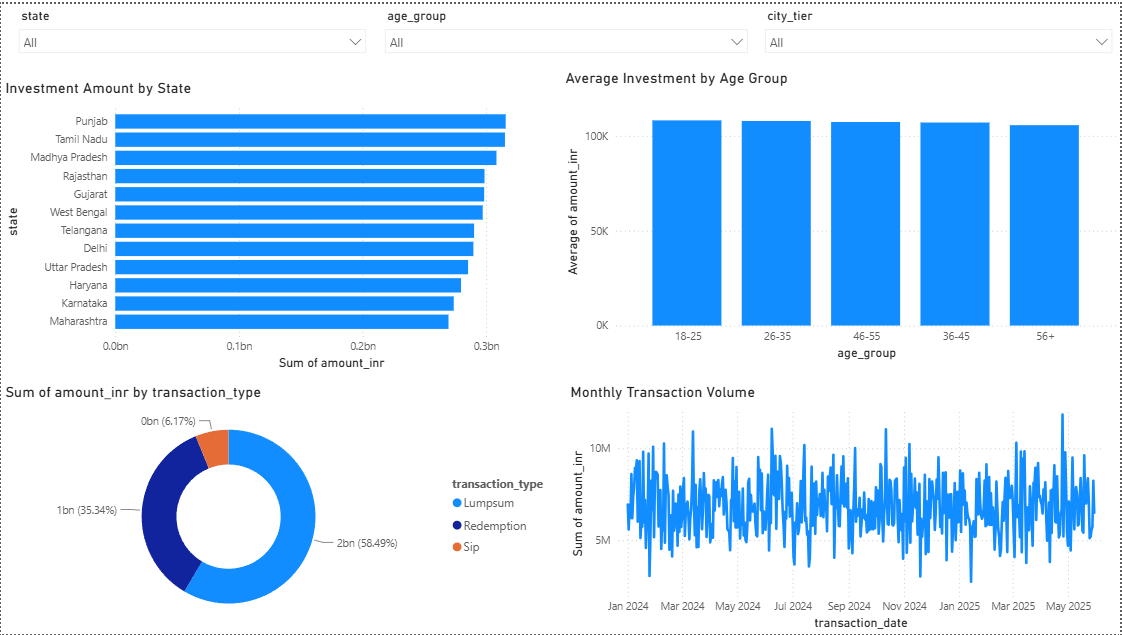

What the dashboard file says about the page in this screenshot:
{"tool":"powerbi","page":{"name":"Investor Analytics","canvas":[1280,720],"ordinal":2},"visuals":[{"type":"slicer","fields":{"Values":["transactions_clean.state"]},"box":[10.5,0,417.4,86],"z":0},{"type":"slicer","fields":{"Values":["transactions_clean.age_group"]},"box":[427.9,0,434.9,86],"z":1000},{"type":"slicer","fields":{"Values":["transactions_clean.city_tier"]},"box":[862.8,0,417.4,86],"z":2000},{"type":"clusteredBarChart","title":"Investment Amount by State","fields":{"Category":["transactions_clean.state"],"Y":["Sum(transactions_clean.amount_inr)"]},"box":[0,86,645.4,337.2],"z":3000},{"type":"donutChart","fields":{"Category":["transactions_clean.transaction_type"],"Y":["Sum(transactions_clean.amount_inr)"]},"box":[0,432.6,639.5,287.2],"z":4000},{"type":"clusteredColumnChart","title":"Average Investment by Age Group","fields":{"Category":["transactions_clean.age_group"],"Y":["Avg(transactions_clean.amount_inr)"]},"box":[639.5,74.4,640.7,337.2],"z":5000},{"type":"lineChart","title":"Monthly Transaction Volume","fields":{"Y":["Sum(transactions_clean.amount_inr)"],"Category":["transactions_clean.transaction_date"]},"box":[645.4,432.6,634.9,287.2],"z":6000}]}

Visuals, with their boxes in screenshot pixels (x1, y1, x2, y2), scaled from the page's 1280x720 canvas onto the 1122x635 screenshot:
slicer - transactions_clean.state: l=9, t=0, r=375, b=76
slicer - transactions_clean.age_group: l=375, t=0, r=756, b=76
slicer - transactions_clean.city_tier: l=756, t=0, r=1121, b=76
"Investment Amount by State" clusteredBarChart: l=0, t=76, r=566, b=373
donutChart - transactions_clean.transaction_type x Sum(transactions_clean.amount_inr): l=0, t=382, r=561, b=634
"Average Investment by Age Group" clusteredColumnChart: l=561, t=66, r=1121, b=363
"Monthly Transaction Volume" lineChart: l=566, t=382, r=1121, b=634
